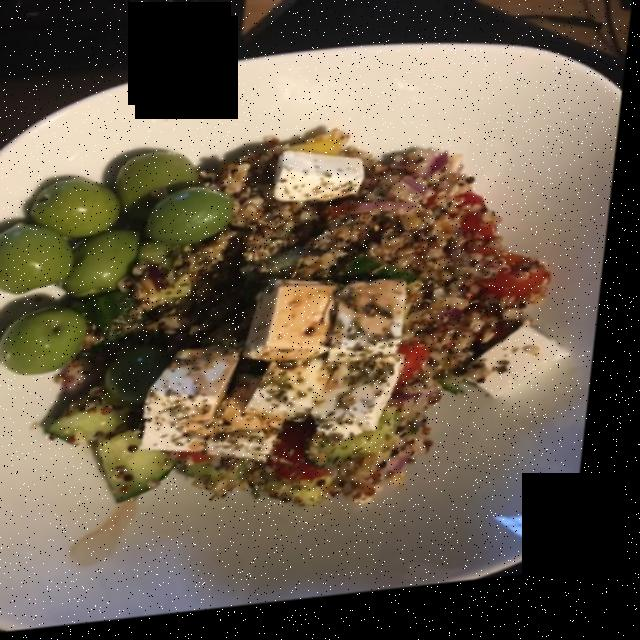cucumber: (71, 405, 188, 504)
feta: (150, 158, 573, 464)
green-olives: (0, 159, 243, 366)
quinoa: (96, 153, 516, 503)
tomato-raw: (489, 209, 555, 322)
